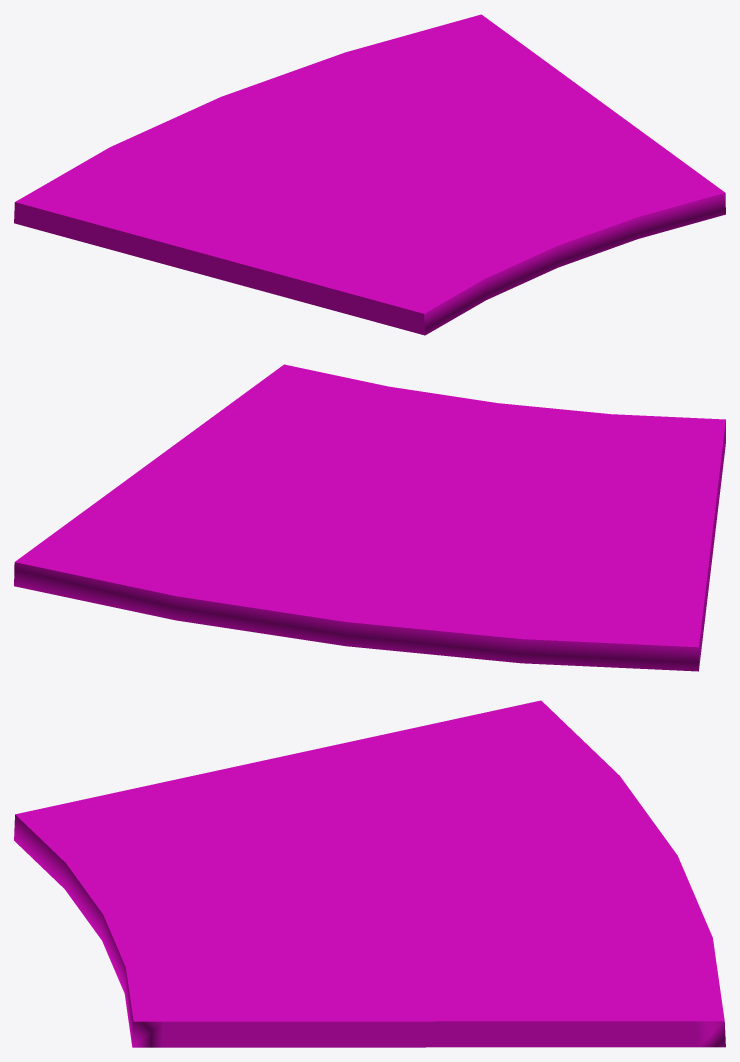
The model's file is Plastic_Pipe_E_15Deg_Inv.fbx.
The picture shows the model from 3 angles, top to bottom: view 1: azimuth 30°, elevation 25°; view 2: azimuth 150°, elevation 25°; view 3: azimuth 270°, elevation 25°; orthographic projection. The views are drawn at different scales.
Parts seen in each view (by area): view 1: Plastic_Pipe_E_15Deg_Inv; view 2: Plastic_Pipe_E_15Deg_Inv; view 3: Plastic_Pipe_E_15Deg_Inv.
Part boxes in pixels (x1=…): Plastic_Pipe_E_15Deg_Inv: x1=14, y1=14, x2=725, y2=335; Plastic_Pipe_E_15Deg_Inv: x1=14, y1=364, x2=725, y2=671; Plastic_Pipe_E_15Deg_Inv: x1=14, y1=700, x2=725, y2=1047.
Size of the model in its own units: 5.96 by 0.2246 by 5.58.
